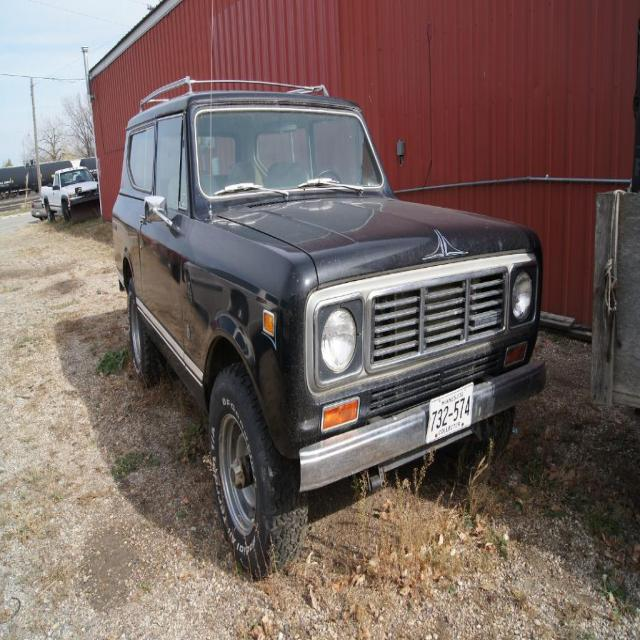car: (113, 75, 548, 578)
